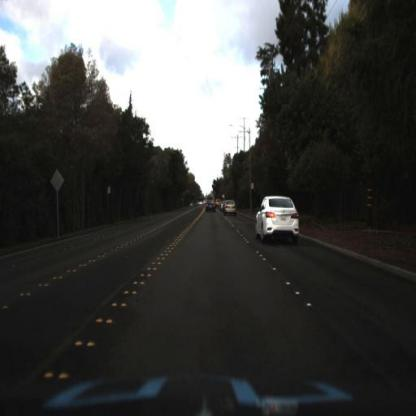car: (253, 194, 302, 252), (225, 198, 239, 221), (205, 197, 218, 213)
